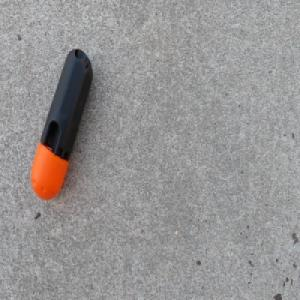PlasticPart: (29, 47, 93, 201)
